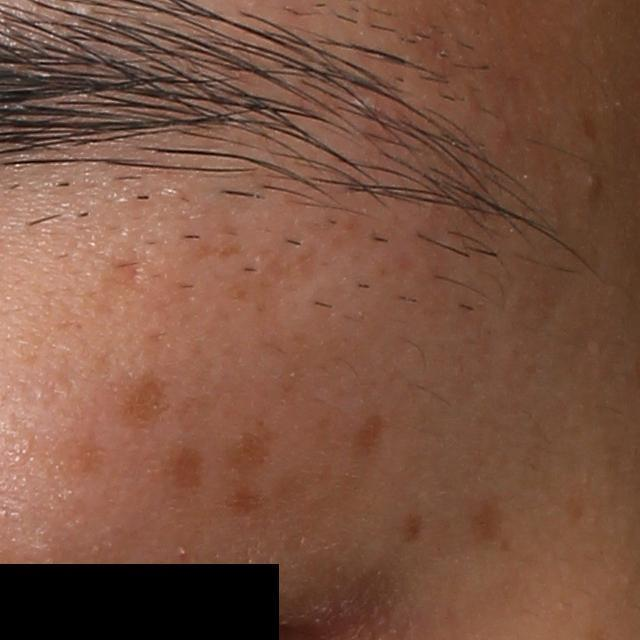comedo: (580, 165, 607, 197)
melasma: (115, 369, 167, 432), (50, 437, 114, 484), (230, 422, 279, 478), (162, 442, 206, 496), (350, 414, 390, 467), (470, 495, 508, 543), (227, 483, 269, 520), (397, 512, 427, 550)
